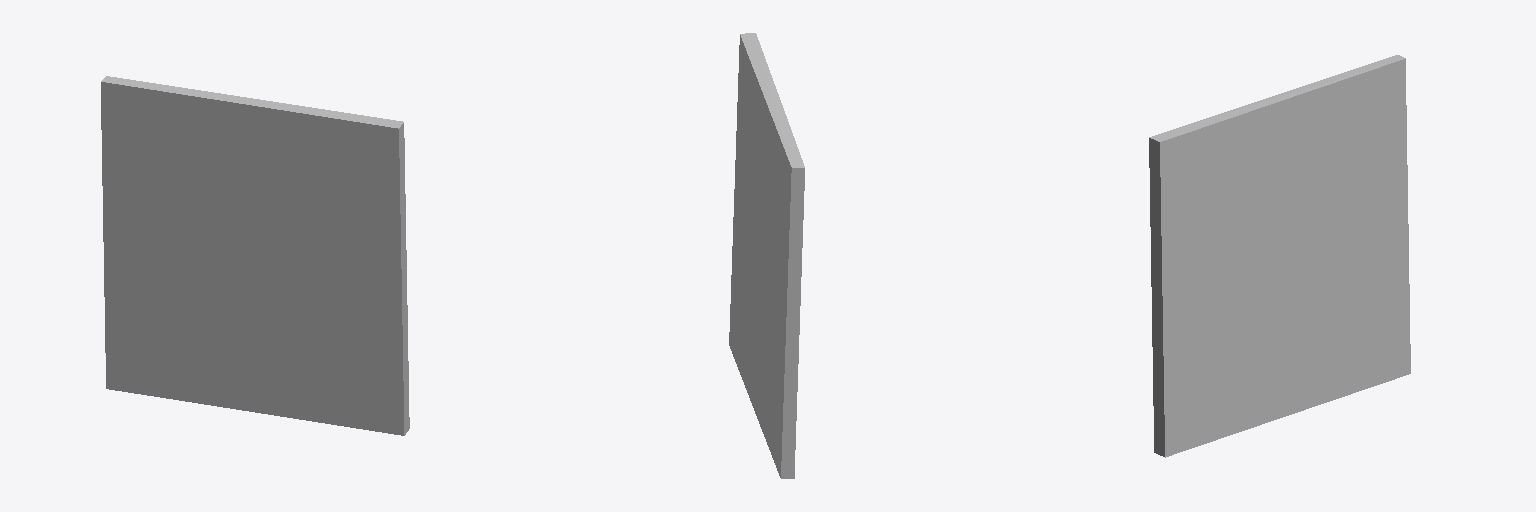
Rendered from gate3.obj.
The picture shows the model from 3 angles: view 1: azimuth 30°, elevation 25°; view 2: azimuth 150°, elevation 25°; view 3: azimuth 270°, elevation 25°; orthographic projection.
Visible parts, largest first — view 1: Cylinder.001_Cylinder.003; view 2: Cylinder.001_Cylinder.003; view 3: Cylinder.001_Cylinder.003.
Boxes of the visible parts, x1,y1,x2,y2 form: Cylinder.001_Cylinder.003: [101, 76, 409, 435]; Cylinder.001_Cylinder.003: [729, 33, 804, 478]; Cylinder.001_Cylinder.003: [1149, 55, 1410, 457].
Bounding box in the file's own units: 3.24 × 5.04 × 3.82.